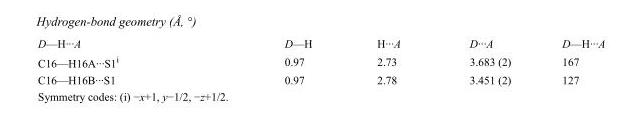table: (37, 36, 604, 85)
table column: (37, 36, 200, 85), (200, 36, 343, 85), (434, 36, 535, 85), (343, 36, 434, 85), (535, 36, 604, 85)
table row: (37, 51, 604, 71), (37, 36, 604, 51), (37, 71, 604, 85)
